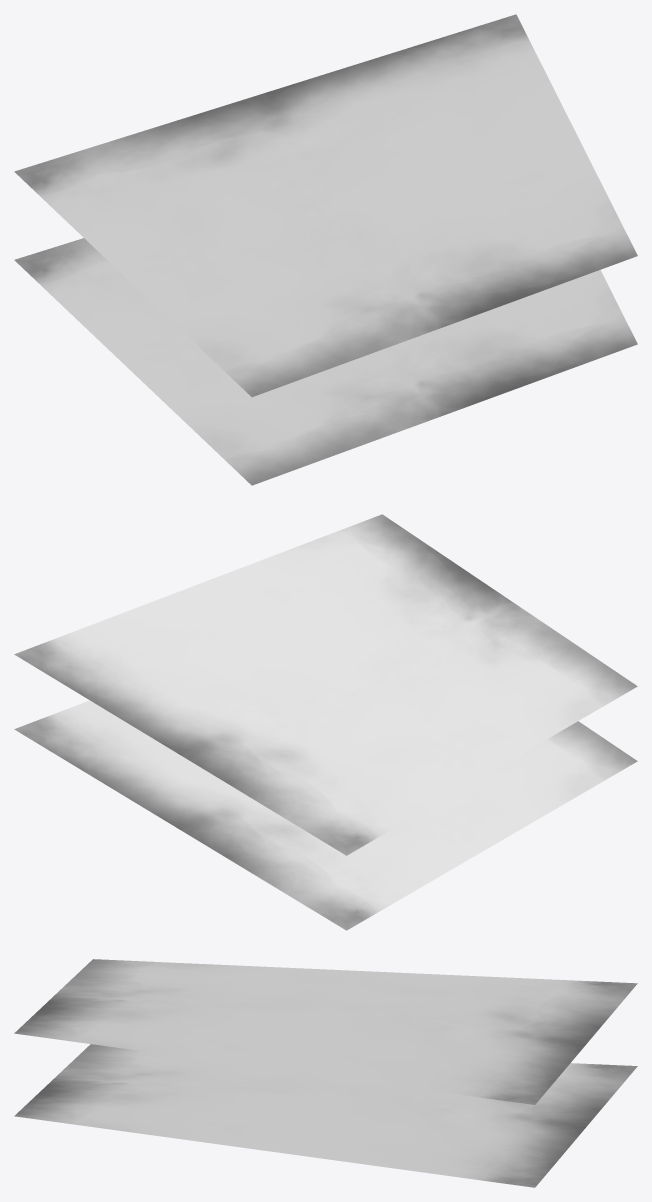
File: CourseWinter_CurveFloor_7_7.fbx
3 views of the same model, one above another, from view 1: azimuth 30°, elevation 25°; view 2: azimuth 150°, elevation 25°; view 3: azimuth 270°, elevation 25° (orthographic). The views are drawn at different scales.
Parts seen in each view (by area): view 1: polySurface701; view 2: polySurface701; view 3: polySurface701.
Boxes of the visible parts, x1,y1,x2,y2 form: polySurface701: [14, 14, 637, 485]; polySurface701: [14, 514, 637, 930]; polySurface701: [14, 959, 637, 1187].
Bounding box in the file's own units: 5.93 × 2 × 6.83.
Materials: 1 (1 with a texture image).
